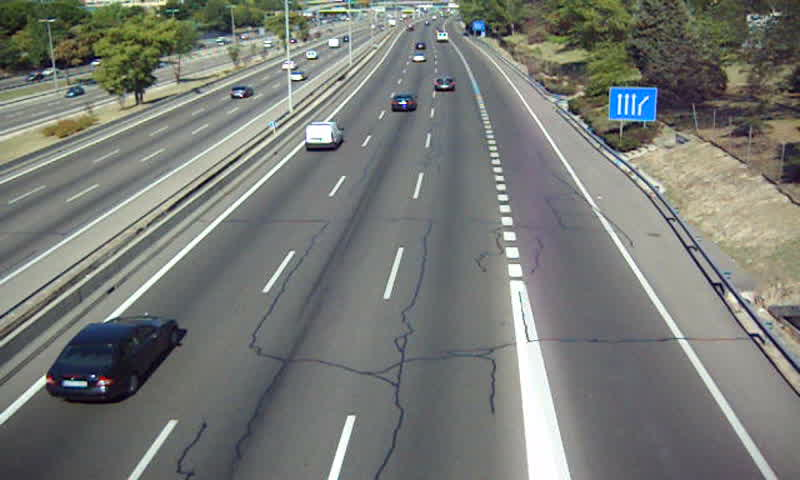car: (48, 316, 178, 402), (390, 92, 419, 112), (432, 75, 456, 94)
van: (305, 122, 346, 150)
